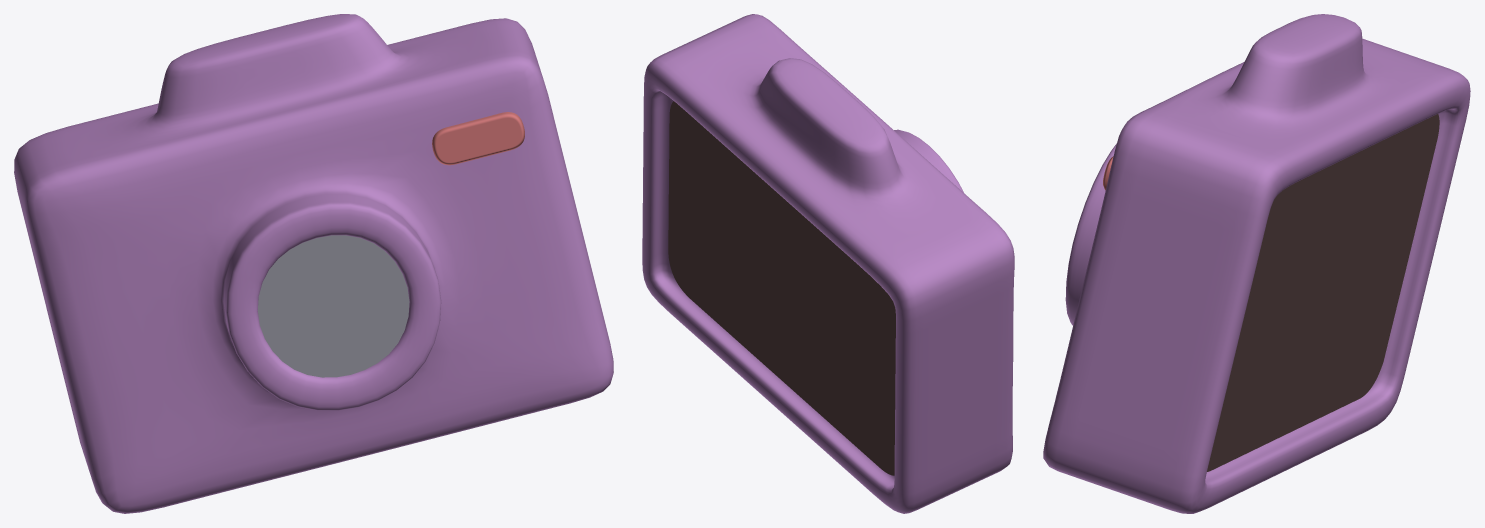
The model's file is camera.gltf.
3 views of the same model, side by side, from view 1: azimuth 30°, elevation 25°; view 2: azimuth 150°, elevation 25°; view 3: azimuth 270°, elevation 25° (orthographic). The views are drawn at different scales.
Parts seen in each view (by area): view 1: Cube, Ellipse, Rectangle 2; view 2: Cube, Rectangle 3; view 3: Cube, Rectangle 3.
Boxes of the visible parts, box(x1,y1,x2,y2) form: Cube: box(14, 14, 613, 513); Ellipse: box(257, 235, 409, 377); Rectangle 2: box(432, 112, 524, 165); Cube: box(642, 14, 1014, 513); Rectangle 3: box(668, 101, 895, 475); Cube: box(1043, 14, 1470, 513); Rectangle 3: box(1207, 114, 1439, 471).
Bounding box in the file's own units: 1.48 × 1.27 × 1.05.
